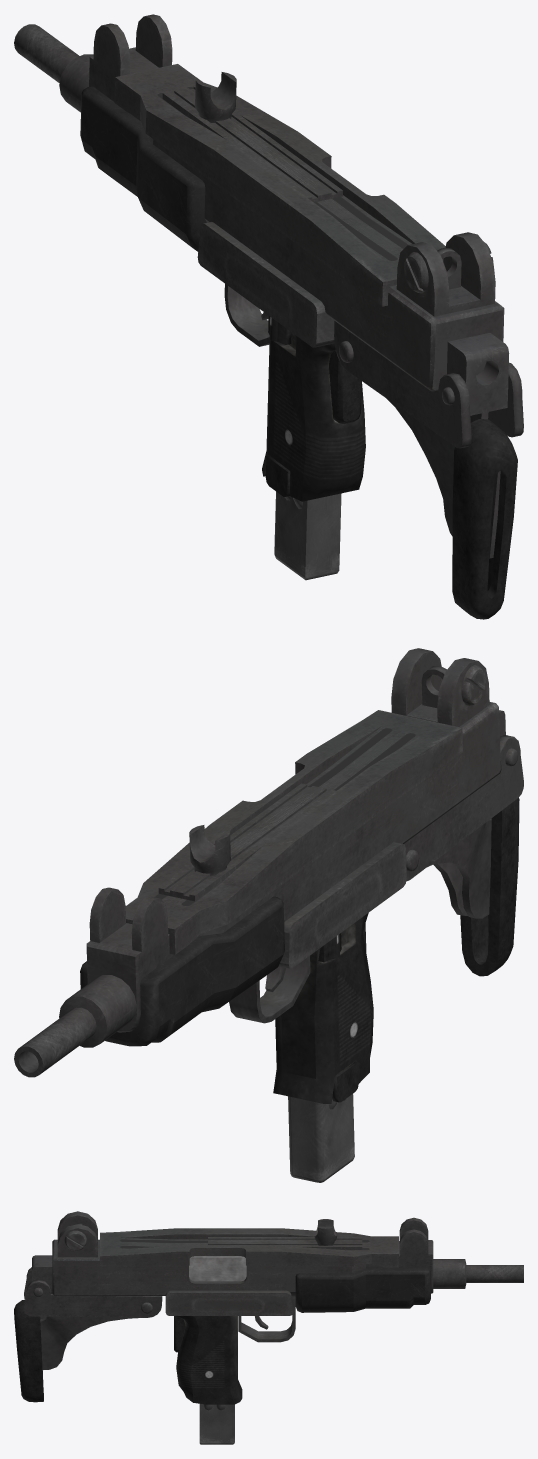
Rendered from uzi_smg.glb.
The picture shows the model from 3 angles, top to bottom: view 1: azimuth 30°, elevation 25°; view 2: azimuth 150°, elevation 25°; view 3: azimuth 270°, elevation 25°; orthographic projection. The views are drawn at different scales.
Parts seen in each view (by area): view 1: handle, stock1, stock0, slide, clip, button, clipRelease; view 2: handle, stock1, slide, stock0, clip, clipRelease; view 3: handle, stock1, stock0, slide, clip, bolt, button.
Part boxes in pixels (bbox=[...]): handle: bbox=[14, 14, 509, 501]; stock1: bbox=[339, 341, 517, 619]; stock0: bbox=[334, 321, 523, 448]; slide: bbox=[162, 72, 342, 202]; clip: bbox=[274, 491, 341, 580]; button: bbox=[329, 350, 361, 424]; clipRelease: bbox=[265, 455, 290, 496]; handle: bbox=[14, 648, 505, 1103]; stock1: bbox=[406, 798, 519, 976]; slide: bbox=[158, 783, 335, 901]; stock0: bbox=[404, 735, 523, 881]; clip: bbox=[288, 1094, 354, 1182]; clipRelease: bbox=[332, 1061, 358, 1102]; handle: bbox=[32, 1211, 523, 1404]; stock1: bbox=[14, 1299, 152, 1402]; stock0: bbox=[24, 1267, 162, 1317]; slide: bbox=[208, 1219, 362, 1249]; clip: bbox=[199, 1404, 234, 1444]; bolt: bbox=[189, 1256, 246, 1281]; button: bbox=[174, 1316, 185, 1352].
Bounding box in the file's own units: 0.3192 × 1.3 × 2.66.
1 material, 1 textured.
